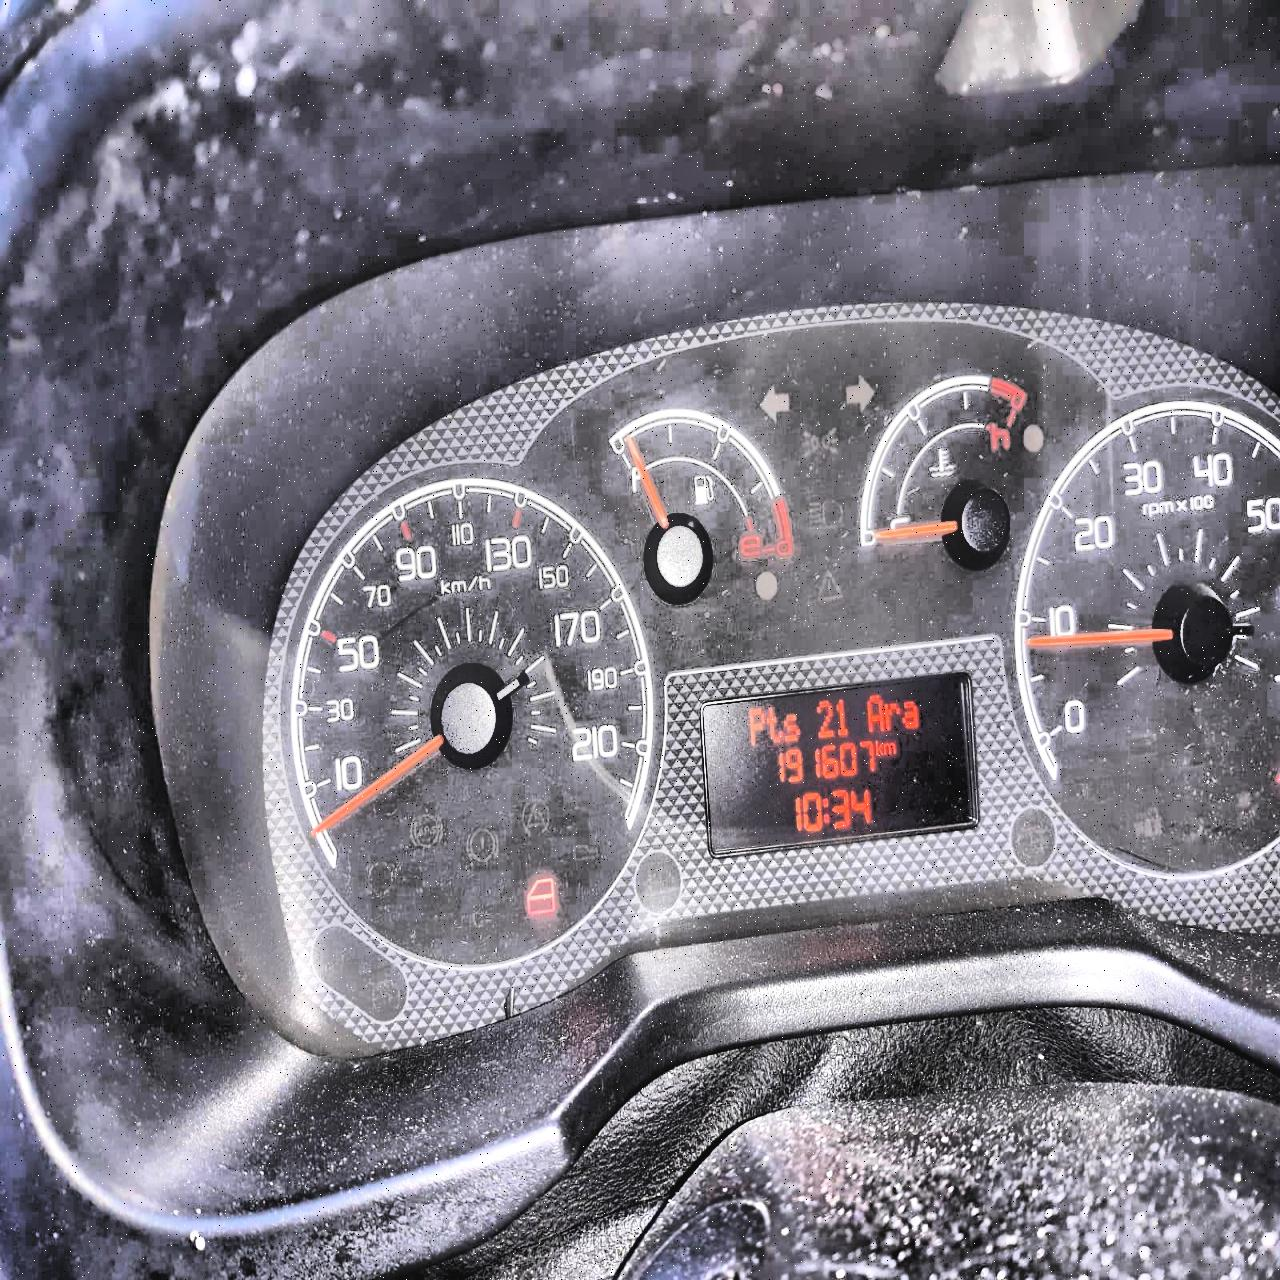0: (802, 790, 821, 832), (838, 740, 857, 782)
1: (836, 696, 851, 737), (794, 794, 801, 836), (813, 742, 821, 782), (777, 749, 784, 787)
2: (816, 696, 835, 740)
3: (831, 788, 850, 829)
4: (850, 787, 872, 825)
6: (822, 743, 837, 779)
7: (858, 738, 873, 772)
9: (784, 748, 803, 787)
X: (763, 704, 783, 747), (865, 689, 884, 734), (747, 702, 764, 749), (901, 696, 921, 731), (883, 697, 899, 730), (783, 709, 798, 743), (822, 792, 831, 831), (883, 738, 898, 755), (873, 736, 884, 756)
odometer: (699, 667, 981, 859)
